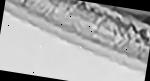colony: (37, 0, 150, 24)
